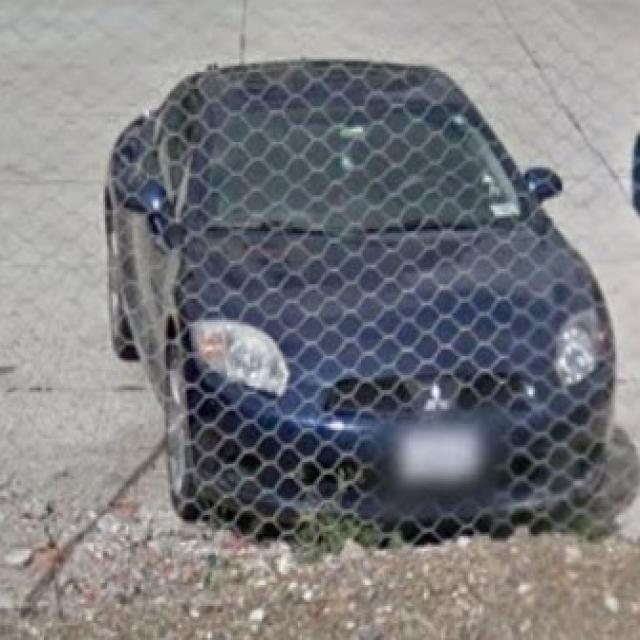cars: (105, 58, 620, 544)
